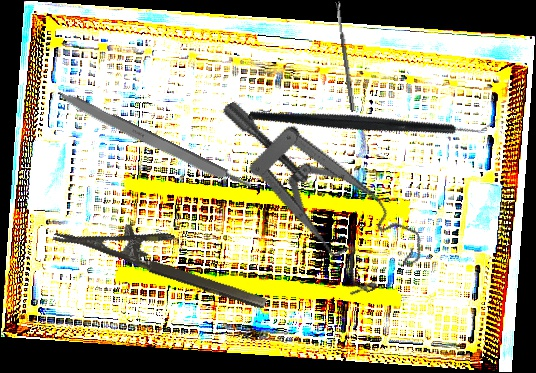Chopper: (246, 24, 500, 214)
Needle Holder: (52, 198, 277, 312)
Scalpel Handle: (53, 87, 253, 196)
Speculum: (220, 55, 432, 318)
Surgical Spoon: (335, 1, 356, 112)
